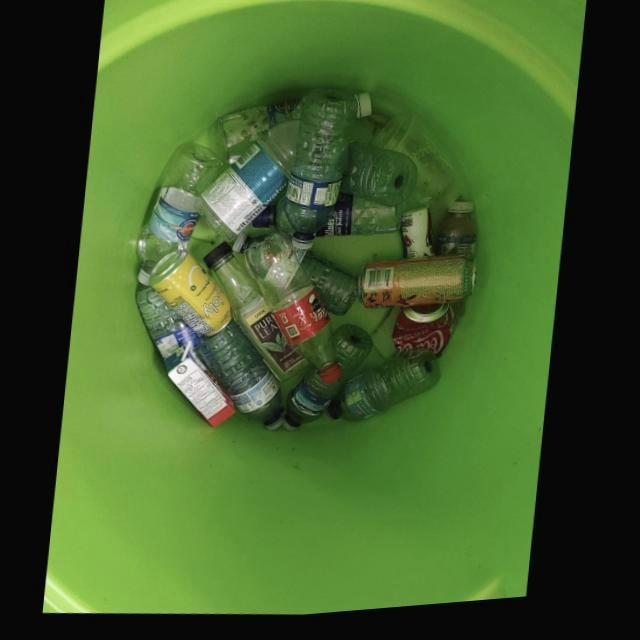aluminum: (149, 251, 232, 340), (358, 262, 479, 315), (392, 308, 455, 366), (399, 213, 433, 264)
plastic_bottle: (244, 238, 342, 389), (203, 247, 308, 387), (196, 123, 299, 246), (285, 92, 360, 255), (136, 146, 222, 287), (198, 322, 285, 435), (284, 330, 374, 436), (325, 360, 442, 428), (135, 285, 198, 362), (340, 147, 418, 209), (295, 254, 358, 322), (316, 197, 402, 242), (435, 208, 477, 265)
plastic_container: (374, 121, 463, 218)
